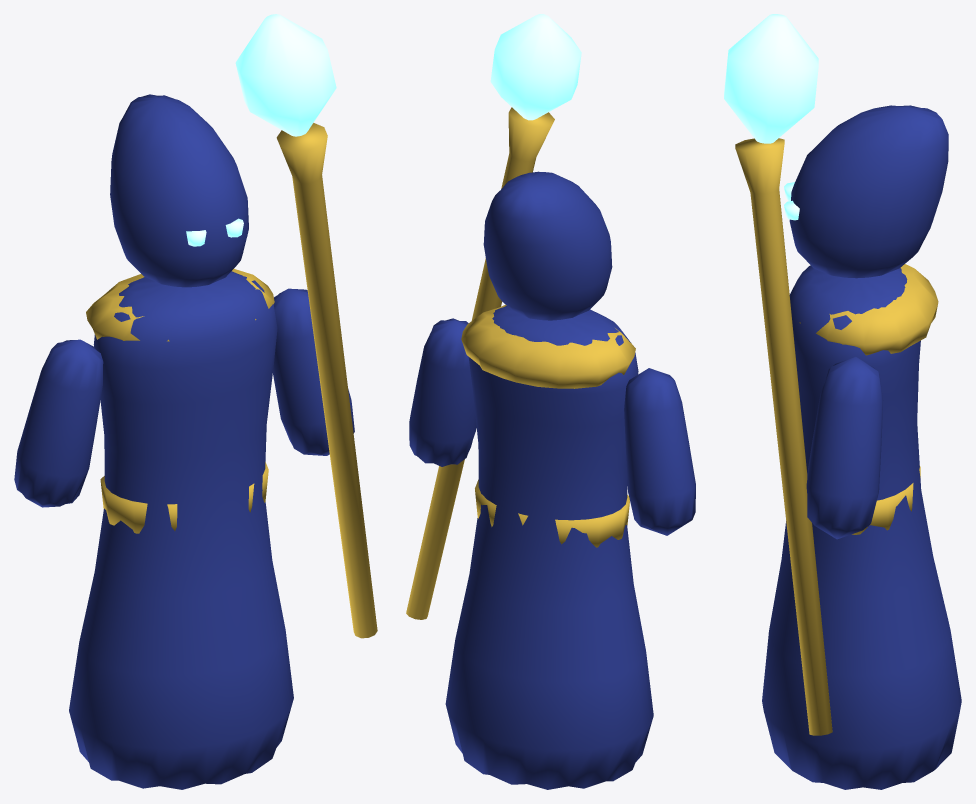
The model's file is mage.glb.
3 renders of one model, left to right at view 1: azimuth 30°, elevation 25°; view 2: azimuth 150°, elevation 25°; view 3: azimuth 270°, elevation 25°, orthographic. The views are drawn at different scales.
Visible parts, largest first — view 1: RobeTorso, MageHood, Staff, Sleeve_L, CrystalOrb, Sleeve_R, Mantle, GoldStole; view 2: RobeTorso, MageHood, Sleeve_L, Mantle, Sleeve_R, CrystalOrb, Staff, GoldStole; view 3: RobeTorso, MageHood, Staff, Sleeve_R, CrystalOrb, Mantle, GoldStole.
Boxes of the visible parts, x1,y1,x2,y2 form: RobeTorso: (69, 271, 293, 789); MageHood: (110, 94, 248, 287); Staff: (276, 123, 377, 638); Sleeve_L: (14, 339, 103, 507); CrystalOrb: (235, 14, 336, 136); Sleeve_R: (273, 288, 354, 455); Mantle: (86, 268, 274, 341); GoldStole: (100, 462, 268, 533); RobeTorso: (445, 306, 653, 789); MageHood: (483, 171, 612, 320); Sleeve_L: (624, 368, 695, 535); Mantle: (461, 304, 635, 388); Sleeve_R: (409, 318, 476, 466); CrystalOrb: (490, 14, 581, 120); Staff: (406, 107, 554, 619); GoldStole: (475, 479, 629, 547); RobeTorso: (762, 265, 961, 789); MageHood: (789, 105, 948, 278); Staff: (735, 138, 832, 735); Sleeve_R: (806, 357, 883, 539); CrystalOrb: (724, 14, 818, 143); Mantle: (799, 264, 938, 355); GoldStole: (852, 465, 920, 534).
Size of the model in its own units: 0.8893 by 2 by 0.548.
3 materials, 3 textured.
